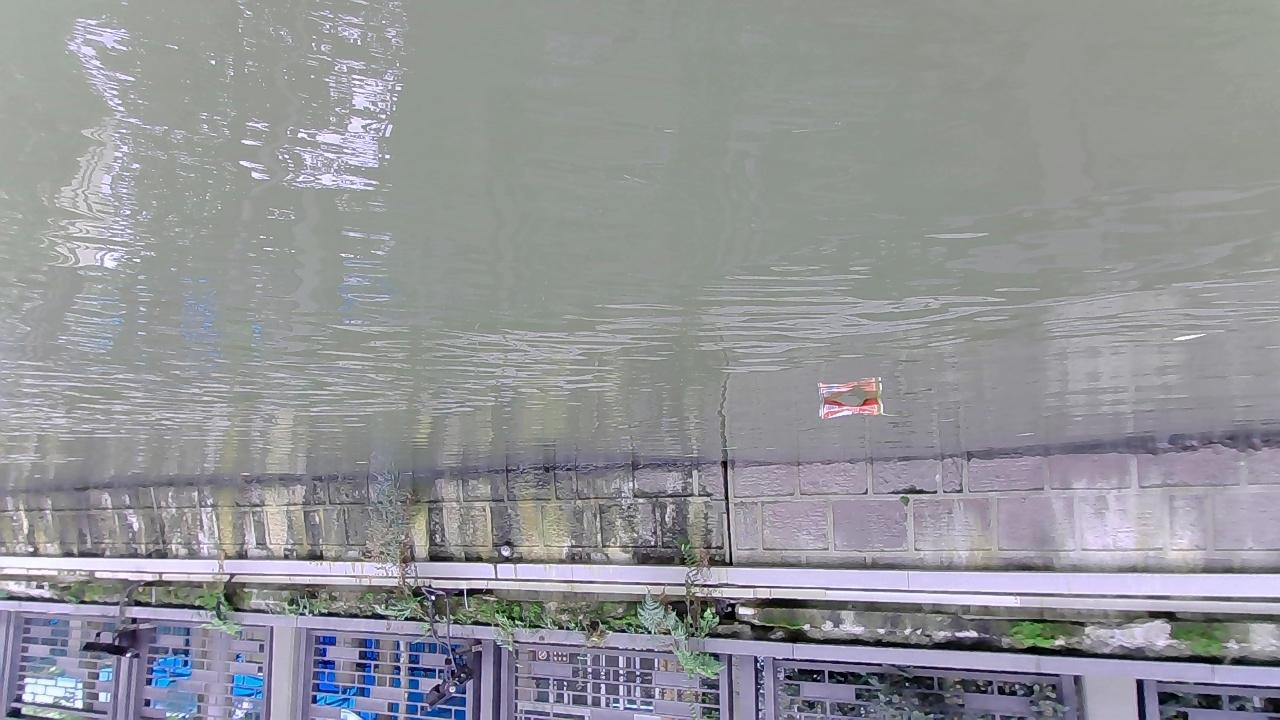Metal: (818, 395, 885, 422)
